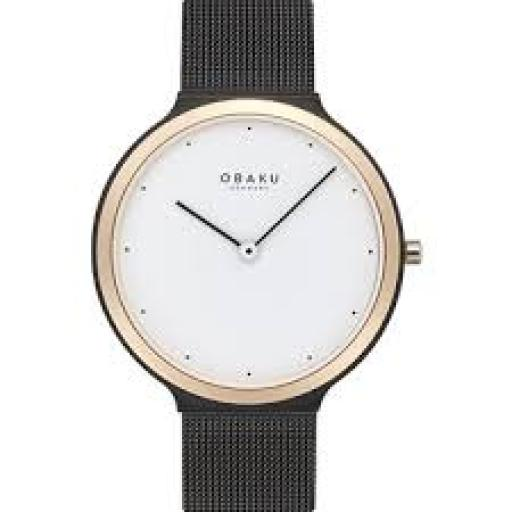KolSaati: (58, 1, 457, 512)
